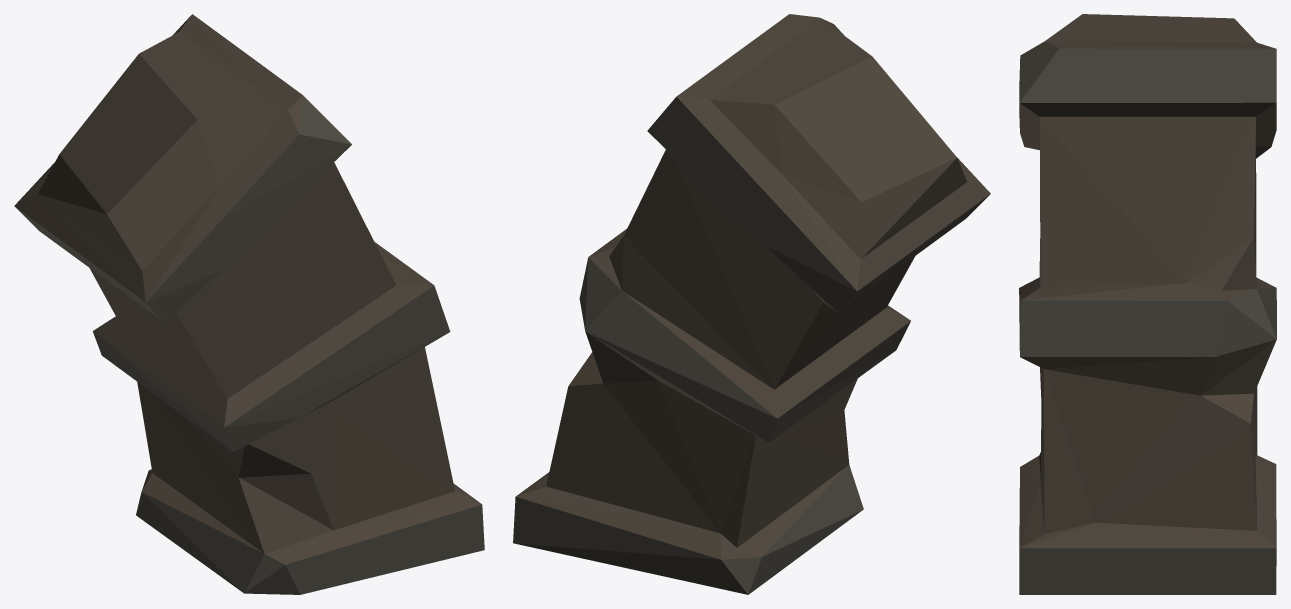
3 renders of one model, left to right at view 1: azimuth 30°, elevation 25°; view 2: azimuth 150°, elevation 25°; view 3: azimuth 270°, elevation 25°, orthographic. The views are drawn at different scales.
Visible parts, largest first — view 1: SM_Prop_Pillar_Arch_Broken_01; view 2: SM_Prop_Pillar_Arch_Broken_01; view 3: SM_Prop_Pillar_Arch_Broken_01.
Boxes of the visible parts, x1=… form: SM_Prop_Pillar_Arch_Broken_01: x1=14, y1=14, x2=484, y2=594; SM_Prop_Pillar_Arch_Broken_01: x1=513, y1=14, x2=990, y2=594; SM_Prop_Pillar_Arch_Broken_01: x1=1019, y1=14, x2=1276, y2=594.
Size of the model in its own units: 0.5995 by 0.8052 by 0.3998.
Materials: 1 (1 with a texture image).
